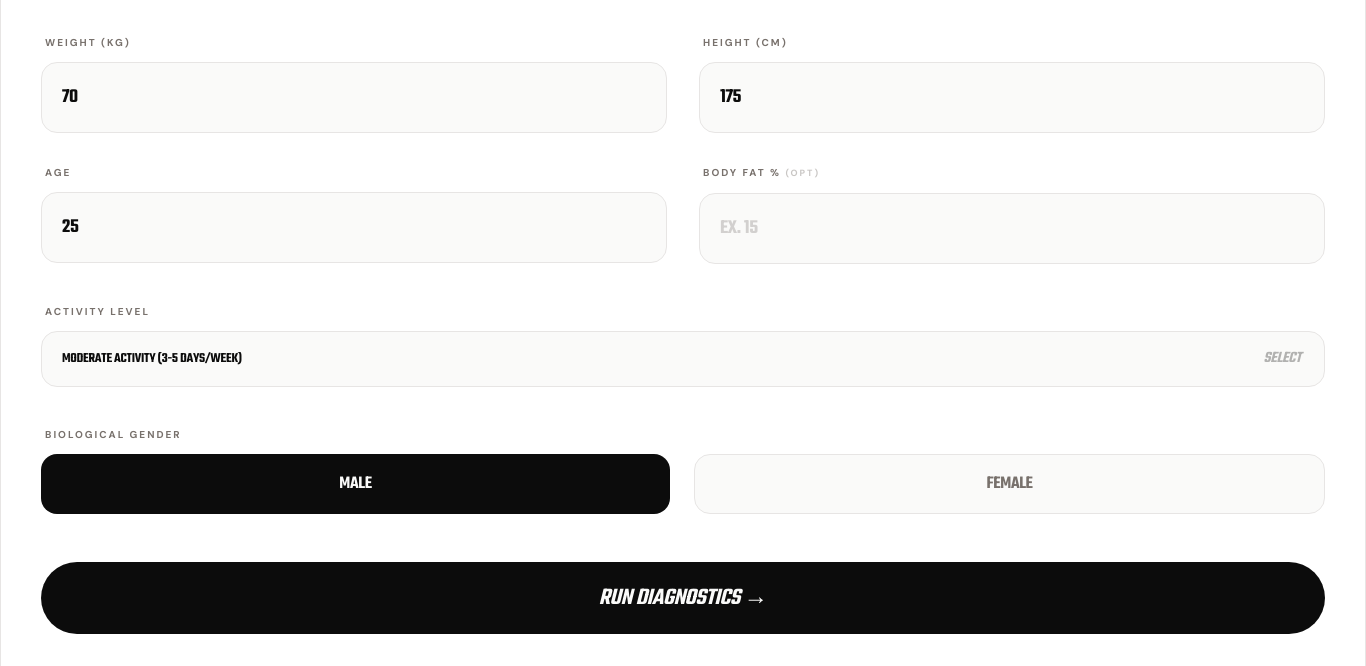
Test case: MacroCalculator › calculates TDEE and displays results
Step 1. Click the button "Run Diagnostics →" → click(683, 598), box [41,562,1325,634]
(page scrolled)
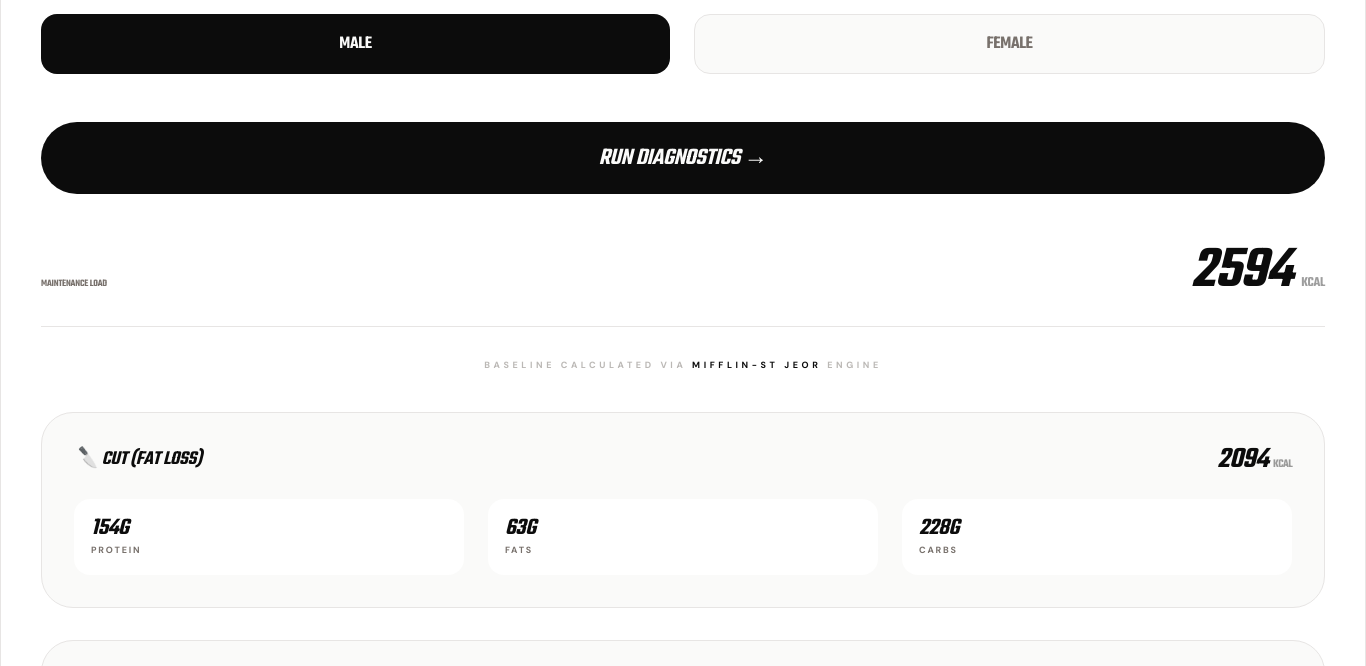
Expected: the text "Maintenance Load" is shown, [41,278,107,288]
Expected: the text "Mifflin-St Jeor" is shown, [692,358,822,370]
Expected: the text "kcal" in the row of "Maintenance Load" is shown, [1301,272,1325,292]
